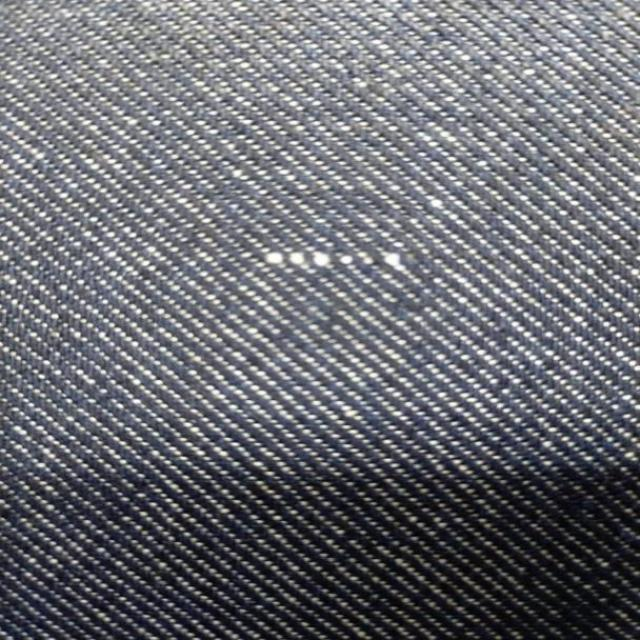Knot: (264, 249, 405, 271)
